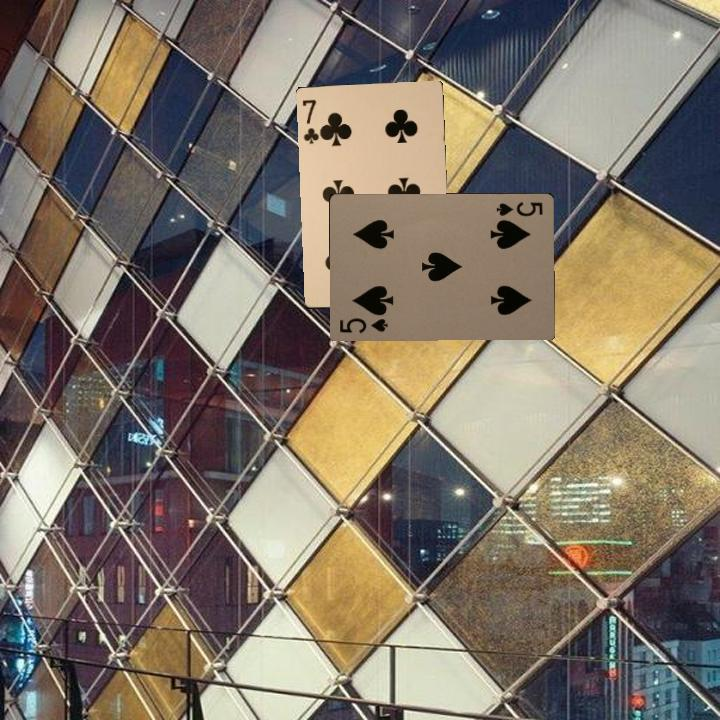5s: (336, 314, 391, 336), (493, 198, 545, 219)
7c: (298, 95, 327, 146)
